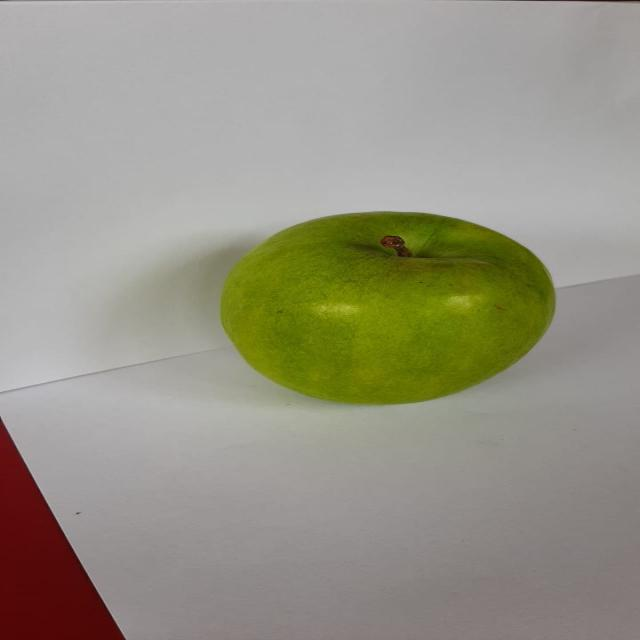50-_ripeness: (222, 203, 563, 412)
